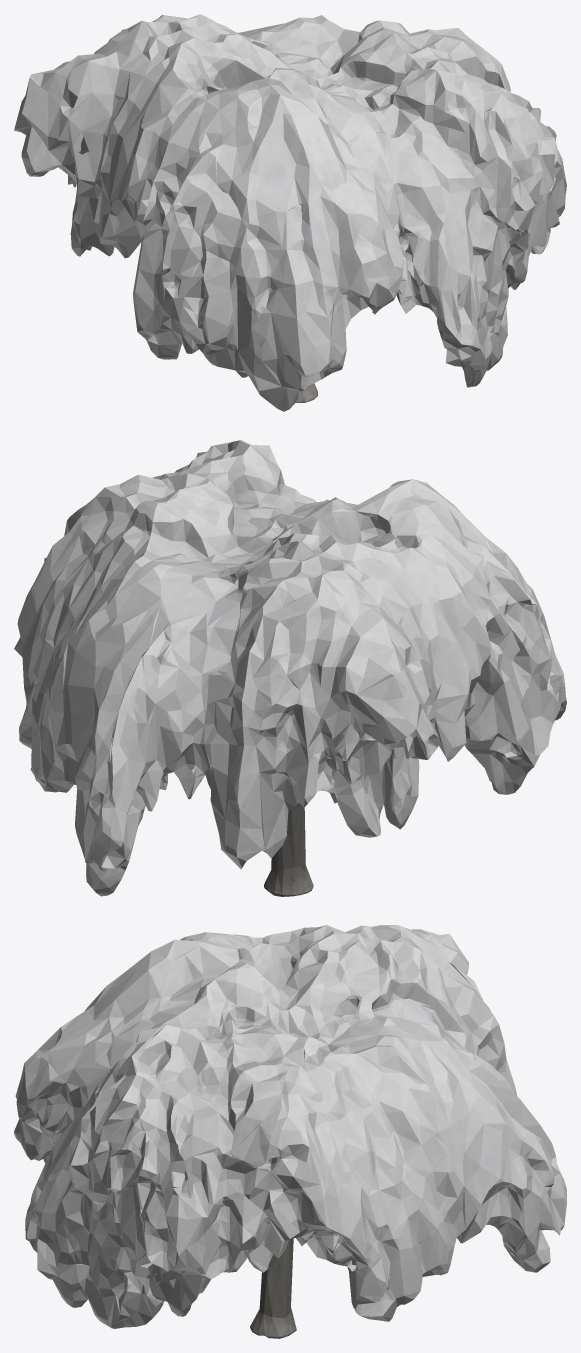
The model's file is snow_fountain_tree.glb.
The picture shows the model from 3 angles, top to bottom: view 1: azimuth 30°, elevation 25°; view 2: azimuth 150°, elevation 25°; view 3: azimuth 270°, elevation 25°; orthographic projection. The views are drawn at different scales.
Visible parts, largest first — view 1: geometry_0; view 2: geometry_0; view 3: geometry_0.
Part boxes in pixels (x1,y1,x2,y2): geometry_0: [14, 14, 566, 411]; geometry_0: [14, 440, 566, 896]; geometry_0: [14, 925, 566, 1338].
Bounding box in the file's own units: 0.894 × 0.7127 × 0.9902.
Materials: 1 (1 with a texture image).
